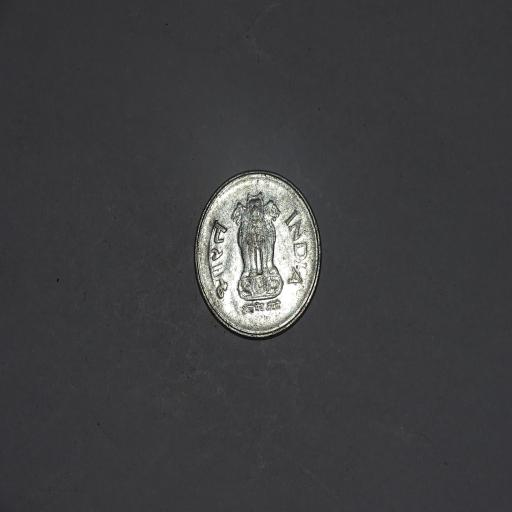rupee1: (189, 166, 324, 342)
